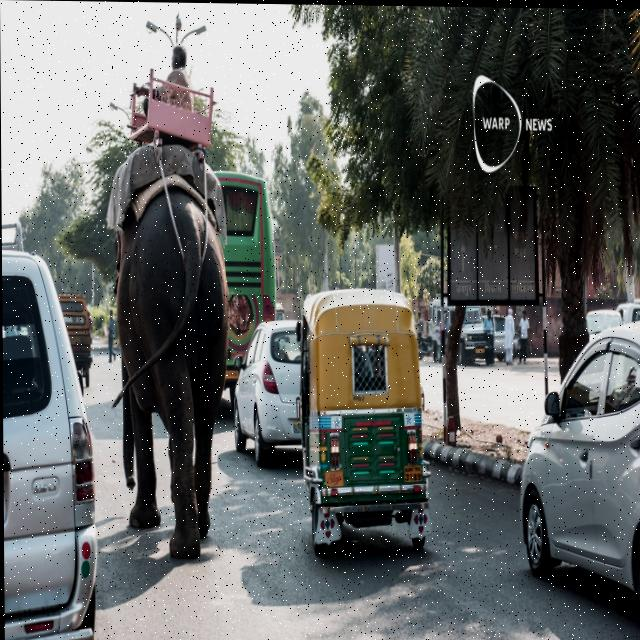plate: (402, 460, 421, 483)
